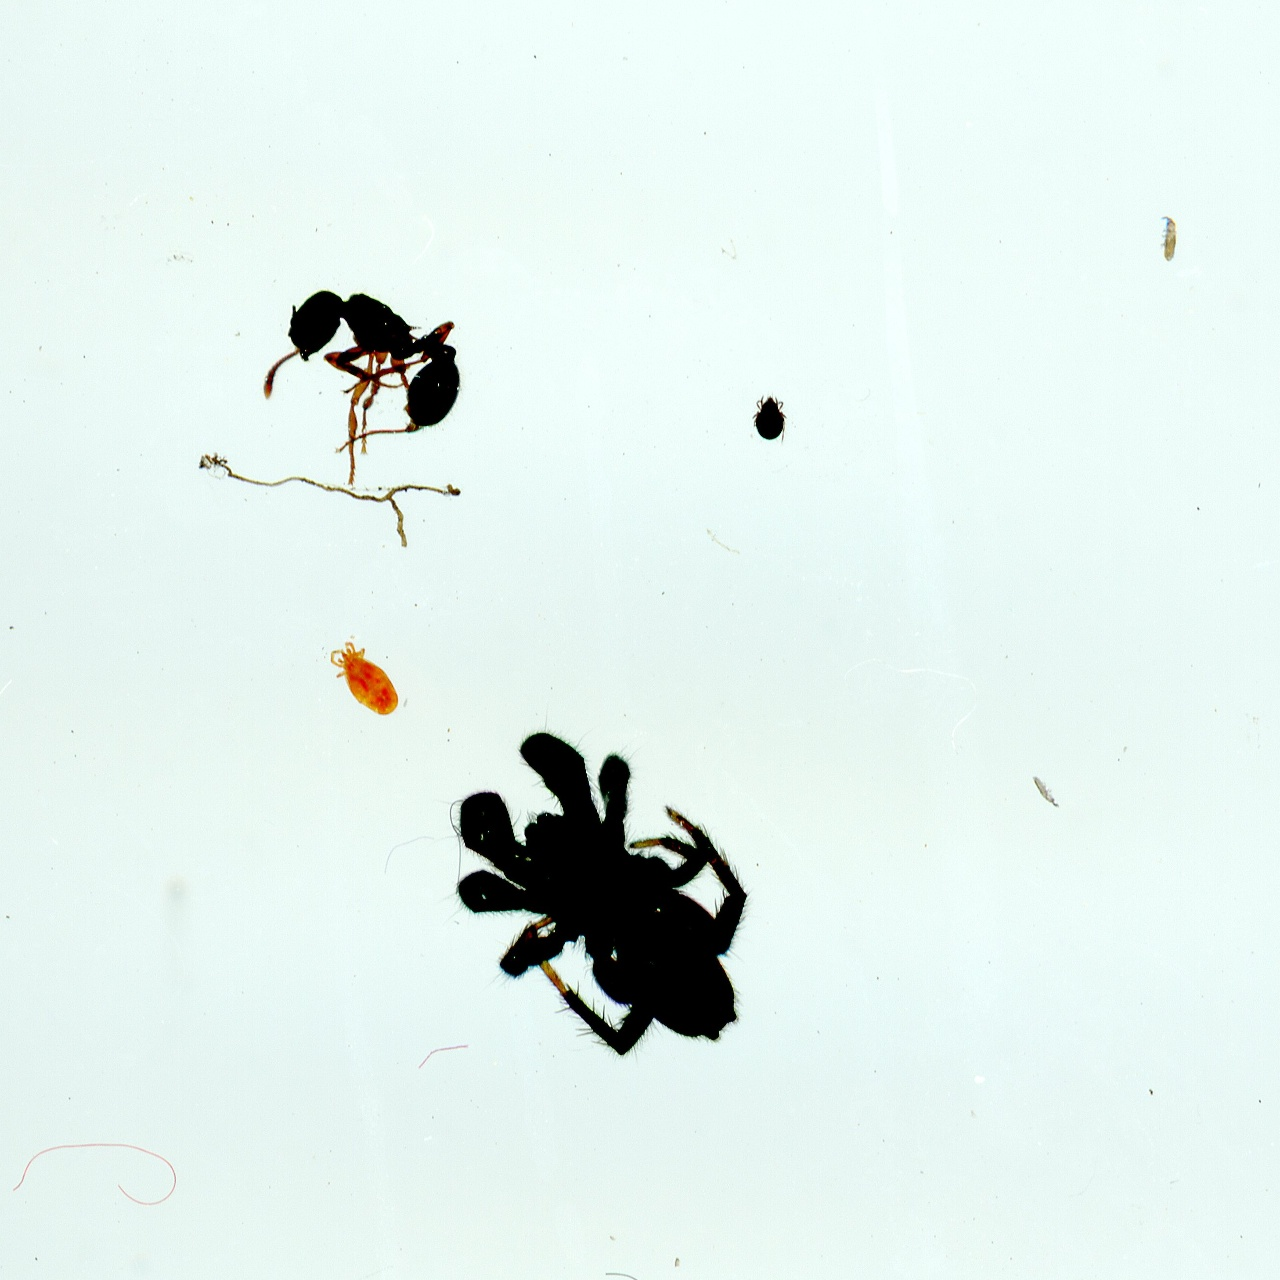arthropod: (366, 654, 840, 1146), (257, 279, 468, 490), (307, 621, 420, 739), (744, 391, 792, 447), (1023, 765, 1069, 818), (1159, 205, 1182, 265)
